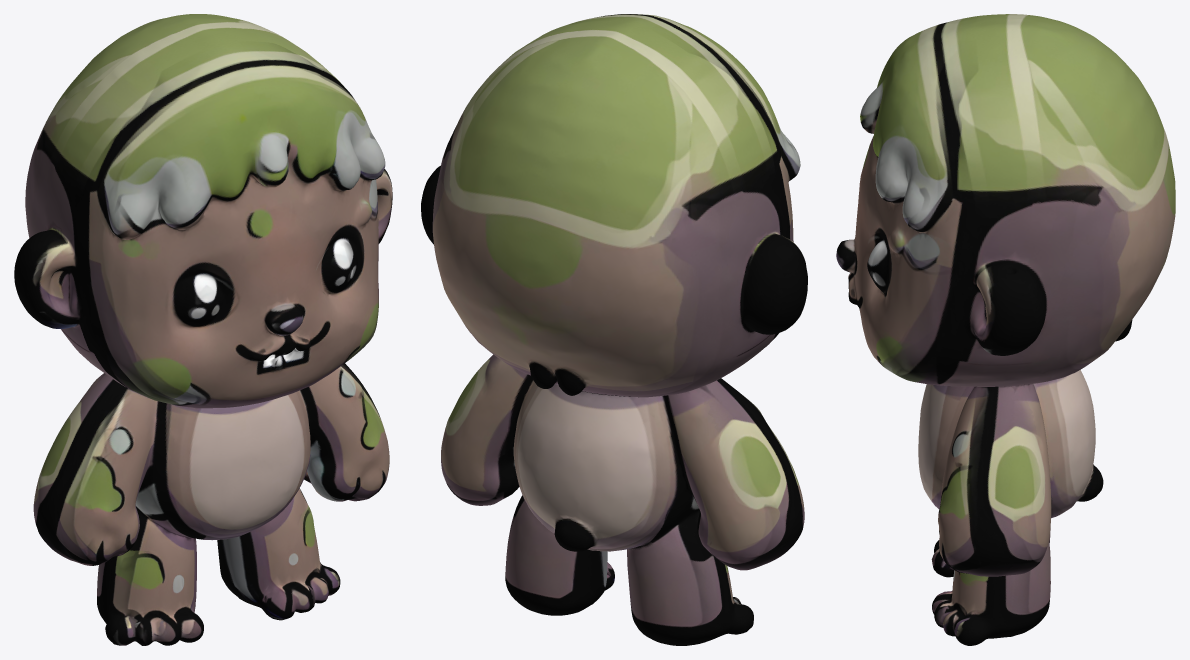
3 views of the same model, side by side, from view 1: azimuth 30°, elevation 25°; view 2: azimuth 150°, elevation 25°; view 3: azimuth 270°, elevation 25° (orthographic). The views are drawn at different scales.
Parts seen in each view (by area): view 1: geometry_0; view 2: geometry_0; view 3: geometry_0.
Part boxes in pixels (<box>): geometry_0: <box>14,14,392,645</box>; geometry_0: <box>421,14,807,645</box>; geometry_0: <box>836,14,1175,645</box>.
Bounding box in the file's own units: 1.25 × 1.87 × 1.01.
Materials: 1 (1 with a texture image).
